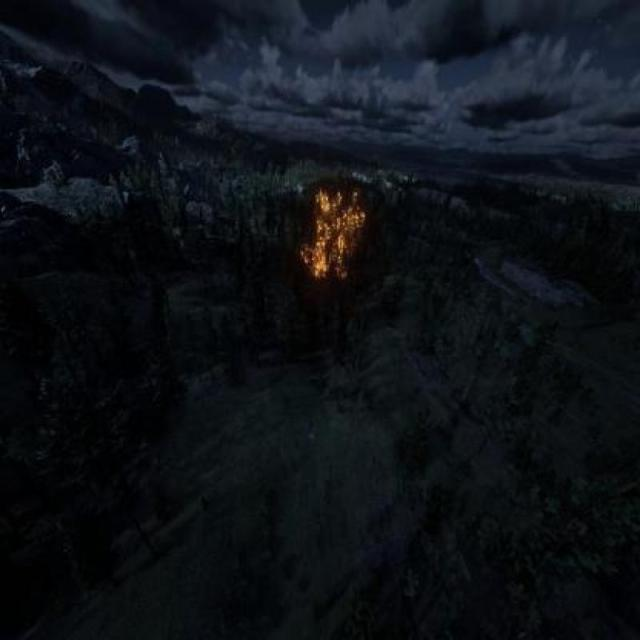Fire: (299, 195, 384, 285)
